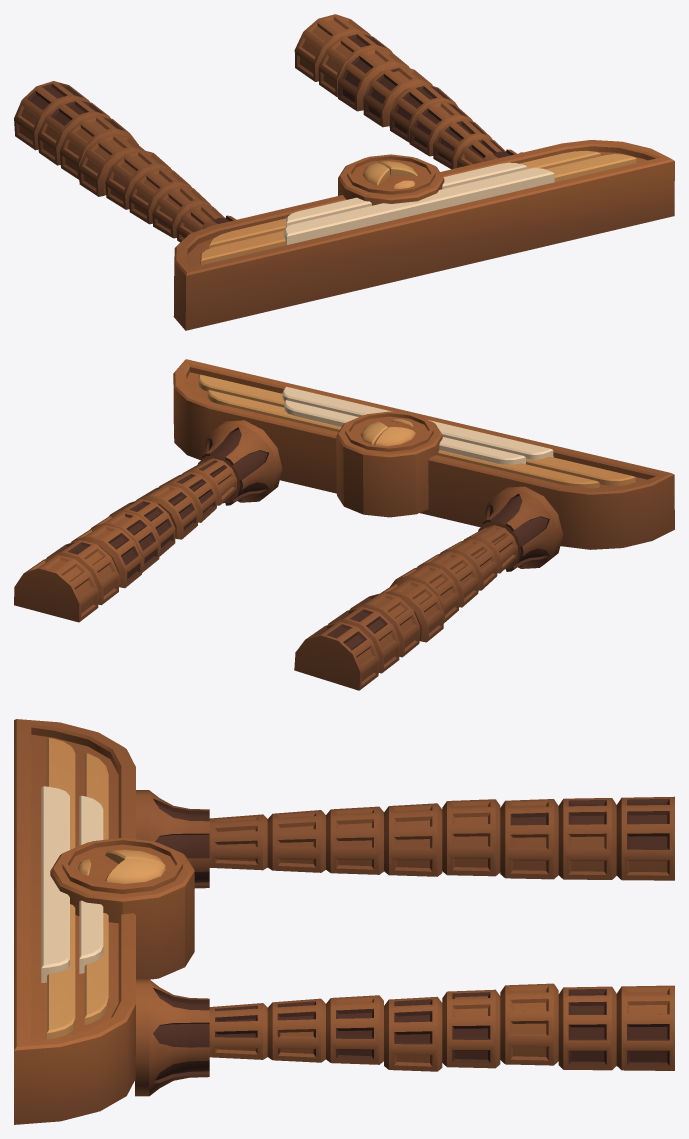
3 renders of one model, top to bottom at view 1: azimuth 30°, elevation 25°; view 2: azimuth 150°, elevation 25°; view 3: azimuth 270°, elevation 25°, orthographic. The views are drawn at different scales.
Parts seen in each view (by area): view 1: diorama.009; view 2: diorama.009; view 3: diorama.009.
Part boxes in pixels (left/top/right/bottom): diorama.009: left=14, top=14, right=674, bottom=330; diorama.009: left=14, top=359, right=674, bottom=690; diorama.009: left=14, top=719, right=674, bottom=1124.
Bounding box in the file's own units: 234 × 47.36 × 201.
